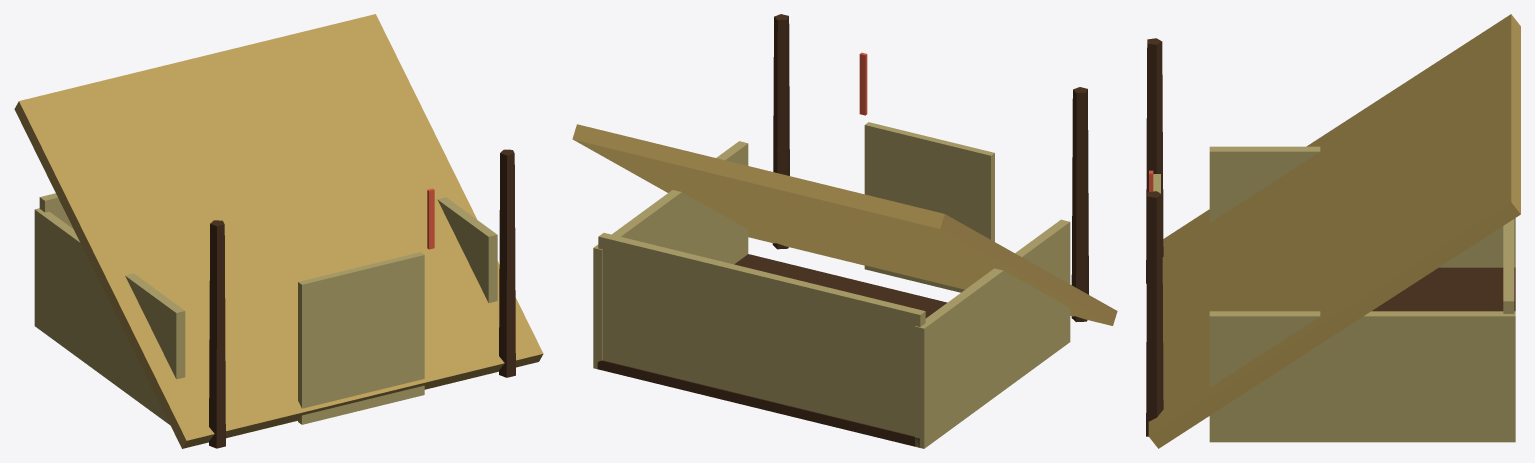
Rendered from prop_quarantine_hut.glb.
3 renders of one model, left to right at view 1: azimuth 30°, elevation 25°; view 2: azimuth 150°, elevation 25°; view 3: azimuth 270°, elevation 25°, orthographic. The views are drawn at different scales.
Visible parts, largest first — view 1: prop_quarantine_hut; view 2: prop_quarantine_hut; view 3: prop_quarantine_hut.
Boxes of the visible parts, left/top/right/bottom form: prop_quarantine_hut: left=14, top=14, right=543, bottom=448; prop_quarantine_hut: left=572, top=14, right=1117, bottom=448; prop_quarantine_hut: left=1146, top=14, right=1520, bottom=448.
Size of the model in its own units: 3.2 by 1.98 by 2.69.
